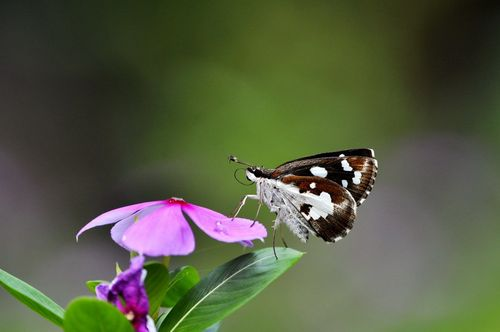Hesperiidae: (224, 149, 380, 250)
